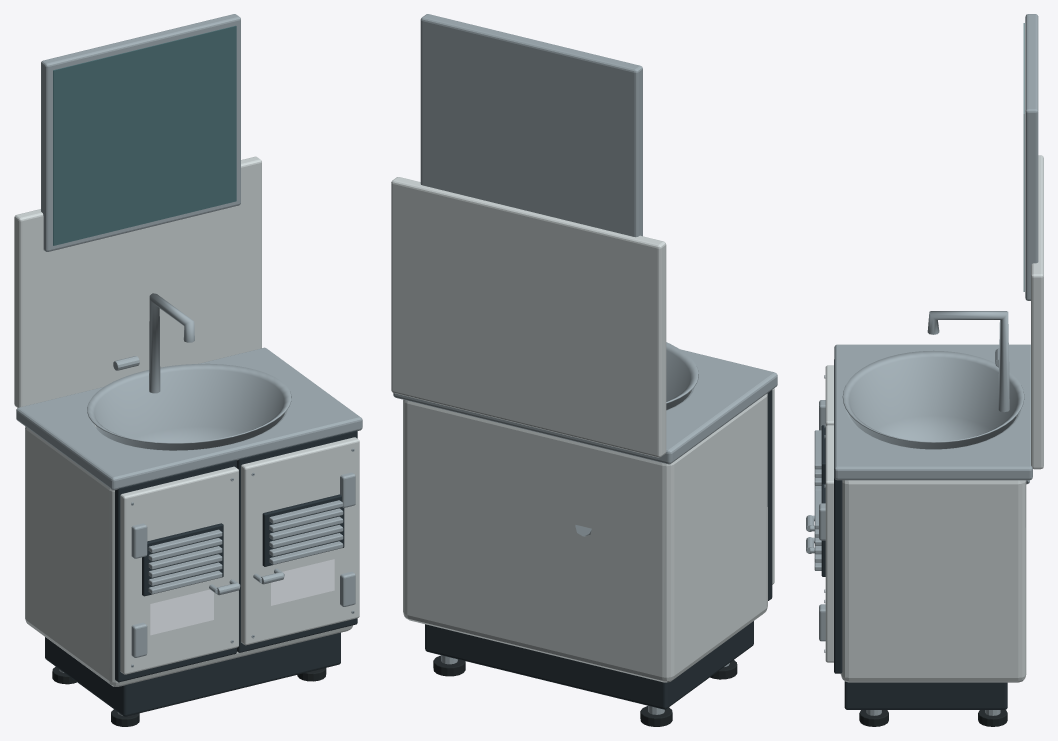
The model's file is SF_SanitaryBasin.fbx.
The picture shows the model from 3 angles, left to right: view 1: azimuth 30°, elevation 25°; view 2: azimuth 150°, elevation 25°; view 3: azimuth 270°, elevation 25°; orthographic projection. The views are drawn at different scales.
Parts seen in each view (by area): view 1: SF_SanitaryBasin; view 2: SF_SanitaryBasin; view 3: SF_SanitaryBasin.
Boxes of the visible parts, bbox=[...] form: SF_SanitaryBasin: bbox=[14, 14, 362, 726]; SF_SanitaryBasin: bbox=[391, 14, 777, 726]; SF_SanitaryBasin: bbox=[806, 14, 1043, 726].
Bounding box in the file's own units: 79.5 × 182 × 64.12.
